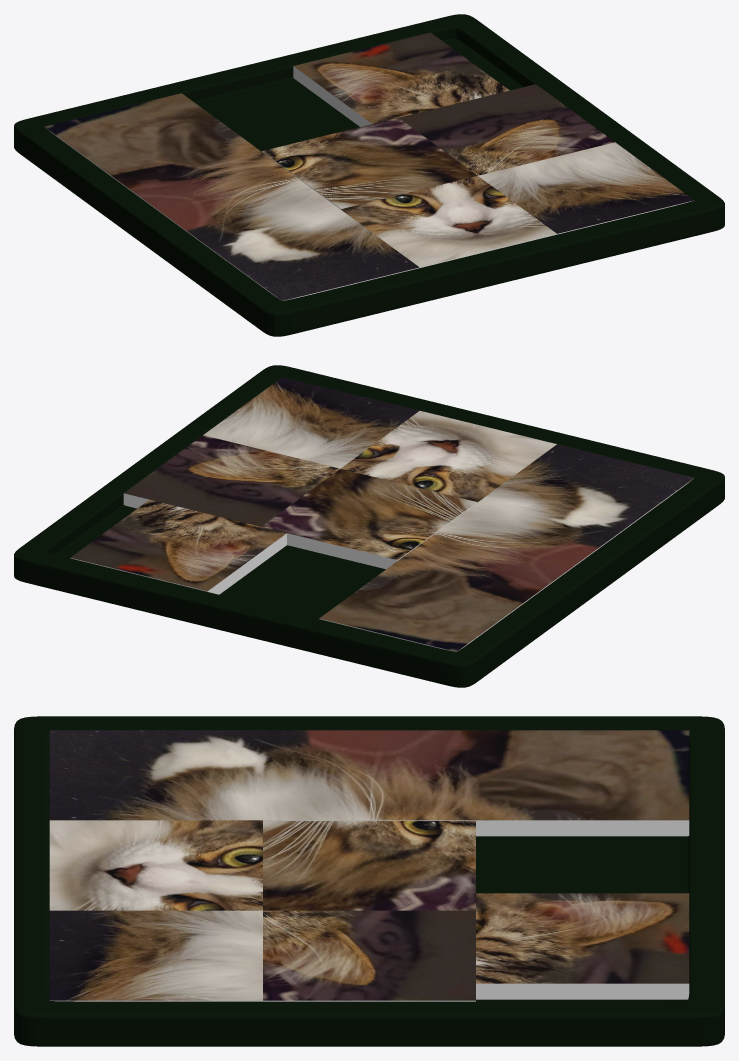
The model's file is sliding_cat_puzzle.fbx.
3 renders of one model, top to bottom at view 1: azimuth 30°, elevation 25°; view 2: azimuth 150°, elevation 25°; view 3: azimuth 270°, elevation 25°, orthographic. The views are drawn at different scales.
Visible parts, largest first — view 1: polySurface1, polySurface13008, polySurface13002, polySurface13005, polySurface13001, polySurface13003, polySurface13004, polySurface13007, polySurface13006; view 2: polySurface1, polySurface13006, polySurface13008, polySurface13007, polySurface13004, polySurface13003, polySurface13002, polySurface13001, polySurface13005; view 3: polySurface1, polySurface13004, polySurface13008, polySurface13001, polySurface13007, polySurface13005, polySurface13002, polySurface13003, polySurface13006.
Part boxes in pixels (left/top/right/bottom): polySurface1: left=14, top=14, right=724, bottom=336; polySurface13008: left=293, top=32, right=509, bottom=126; polySurface13002: left=203, top=209, right=419, bottom=300; polySurface13005: left=341, top=176, right=557, bottom=267; polySurface13001: left=478, top=142, right=694, bottom=234; polySurface13003: left=123, top=151, right=339, bottom=243; polySurface13004: left=44, top=93, right=260, bottom=185; polySurface13007: left=399, top=84, right=614, bottom=175; polySurface13006: left=262, top=118, right=477, bottom=209; polySurface1: left=14, top=365, right=724, bottom=687; polySurface13006: left=261, top=469, right=476, bottom=569; polySurface13008: left=70, top=499, right=286, bottom=594; polySurface13007: left=123, top=435, right=339, bottom=526; polySurface13004: left=319, top=560, right=535, bottom=651; polySurface13003: left=399, top=502, right=615, bottom=594; polySurface13002: left=478, top=444, right=694, bottom=536; polySurface13001: left=203, top=377, right=419, bottom=468; polySurface13005: left=340, top=411, right=556, bottom=502; polySurface1: left=14, top=716, right=724, bottom=1046; polySurface13004: left=476, top=730, right=689, bottom=836; polySurface13008: left=476, top=893, right=689, bottom=999; polySurface13001: left=49, top=910, right=262, bottom=1001; polySurface13007: left=263, top=910, right=475, bottom=1001; polySurface13005: left=49, top=820, right=262, bottom=910; polySurface13002: left=49, top=730, right=262, bottom=820; polySurface13003: left=263, top=730, right=475, bottom=820; polySurface13006: left=263, top=821, right=475, bottom=910.
Size of the model in its own units: 900 by 45 by 900.
3 materials, 1 textured.
